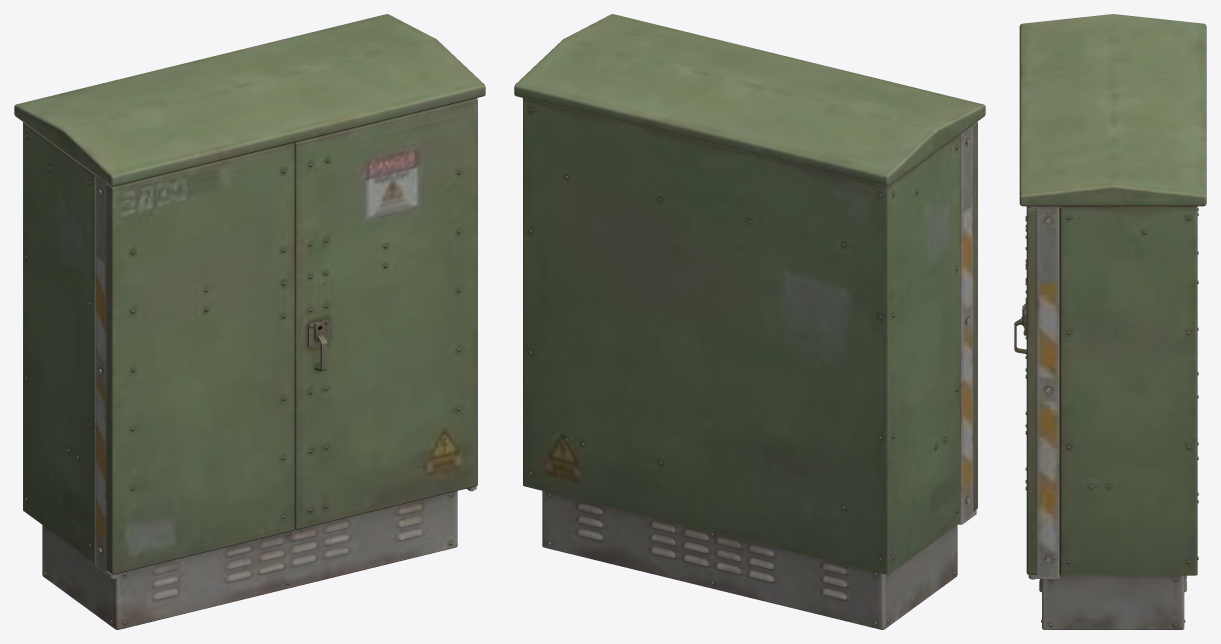
Rendered from utility_box_2.glb.
3 renders of one model, left to right at view 1: azimuth 30°, elevation 25°; view 2: azimuth 150°, elevation 25°; view 3: azimuth 270°, elevation 25°, orthographic. The views are drawn at different scales.
Visible parts, largest first — view 1: utility_box_02; view 2: utility_box_02; view 3: utility_box_02.
Part boxes in pixels (box(x1,y1,x2,y2)): utility_box_02: box(14, 14, 485, 629); utility_box_02: box(514, 14, 985, 629); utility_box_02: box(1014, 14, 1206, 629).
Bounding box in the file's own units: 0.92 × 1.12 × 0.432.
Materials: 1 (1 with a texture image).
